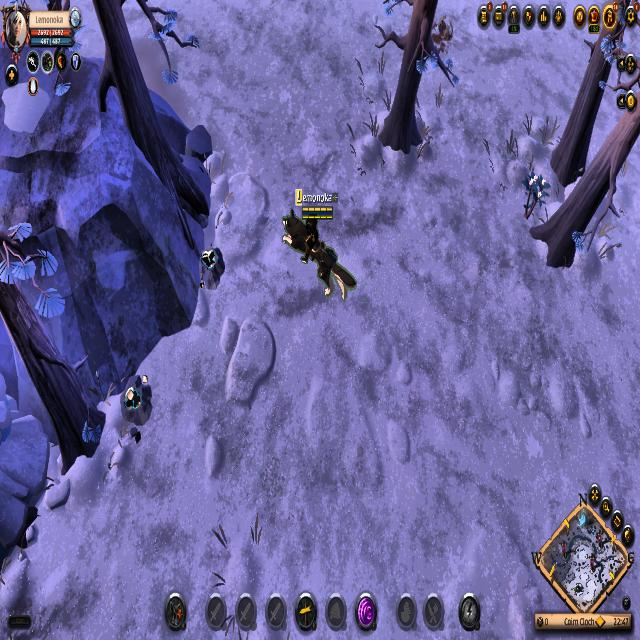fiber tier 4: (522, 172, 550, 220)
